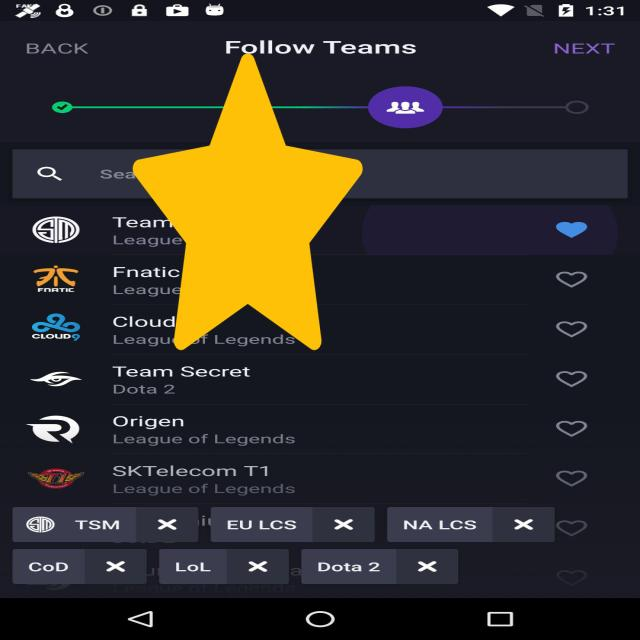forced continuity: (132, 54, 362, 350)
